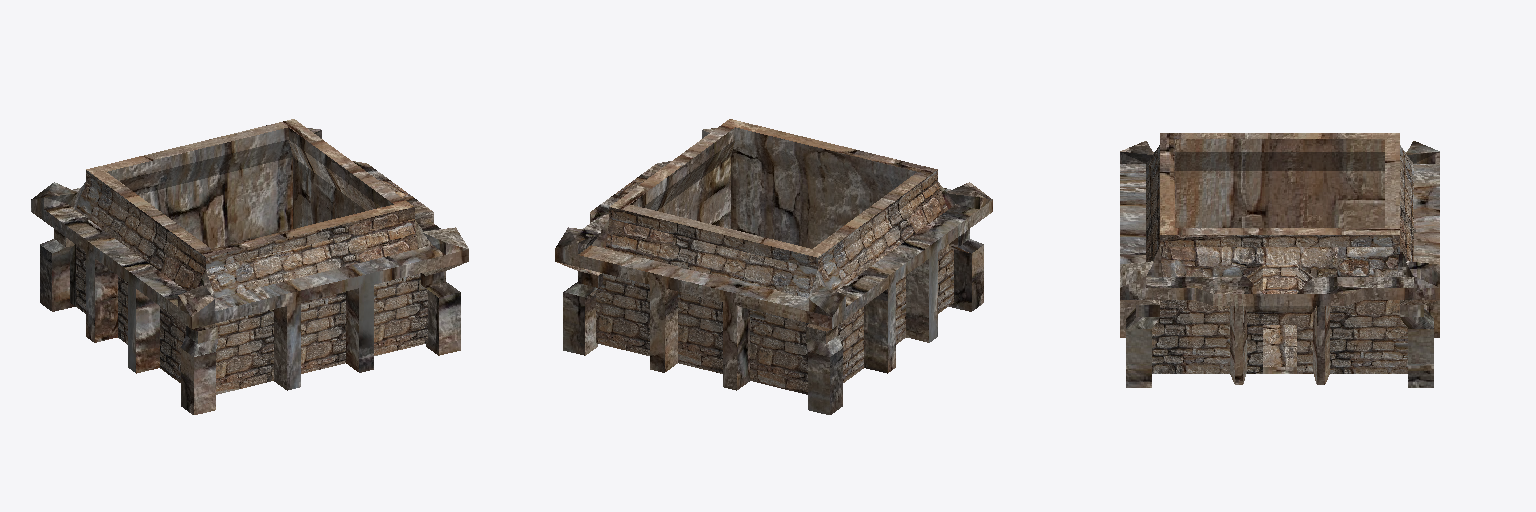
3 renders of one model, left to right at view 1: azimuth 30°, elevation 25°; view 2: azimuth 150°, elevation 25°; view 3: azimuth 270°, elevation 25°, orthographic.
Parts seen in each view (by area): view 1: Plane; view 2: Plane; view 3: Plane.
Part boxes in pixels (bbox=[...]): Plane: bbox=[31, 119, 468, 414]; Plane: bbox=[555, 119, 992, 414]; Plane: bbox=[1120, 133, 1439, 387].
Bounding box in the file's own units: 25 × 11.43 × 24.
Materials: 1 (1 with a texture image).